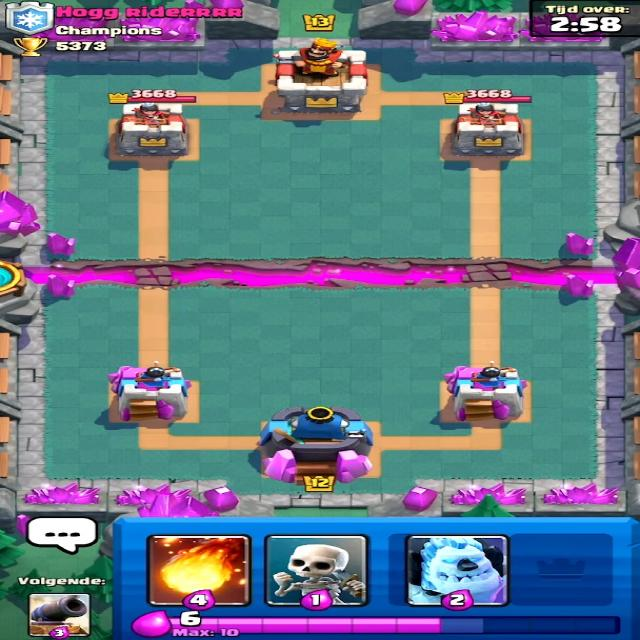Fireball_Card: (151, 538, 248, 607)
Ice_Golem_Card: (410, 535, 504, 607)
Skeleton_Card: (264, 535, 370, 607)
